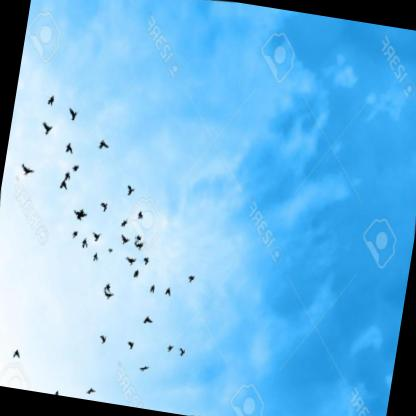bird: (72, 206, 89, 223), (18, 162, 36, 178), (40, 121, 54, 137), (66, 106, 80, 121), (96, 137, 111, 151), (133, 239, 148, 253), (119, 232, 133, 246), (124, 253, 138, 267), (142, 314, 155, 326), (64, 141, 75, 154), (125, 184, 136, 196), (103, 291, 115, 302), (98, 333, 108, 346), (92, 231, 103, 242), (63, 170, 73, 182), (102, 281, 112, 293), (139, 364, 151, 374), (86, 385, 97, 395), (80, 237, 89, 249), (47, 94, 55, 107), (164, 284, 172, 297), (60, 179, 69, 190), (99, 201, 108, 212), (177, 347, 186, 358), (11, 348, 20, 359), (165, 343, 174, 353), (71, 162, 79, 173), (143, 255, 151, 266), (120, 218, 128, 228), (70, 229, 77, 240), (136, 209, 143, 220), (92, 252, 99, 263), (133, 269, 140, 280), (149, 283, 156, 294), (188, 274, 196, 283), (135, 233, 142, 243), (127, 340, 134, 350), (107, 247, 113, 254), (53, 389, 60, 395)
